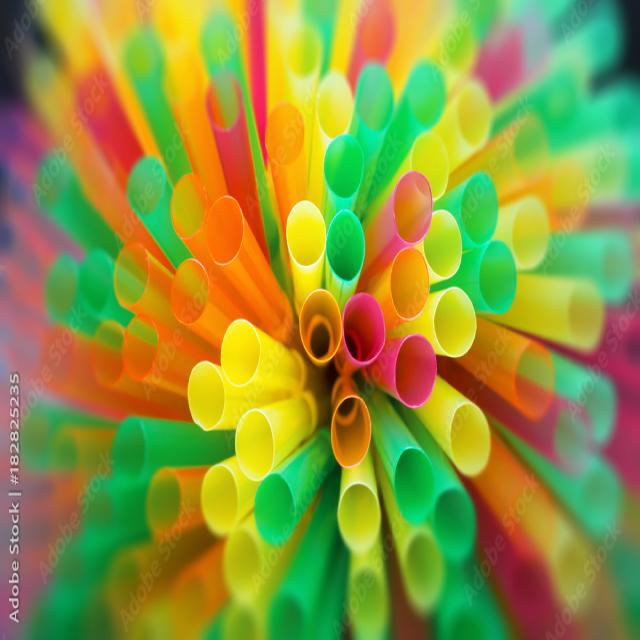plastic: (427, 384, 498, 508)
